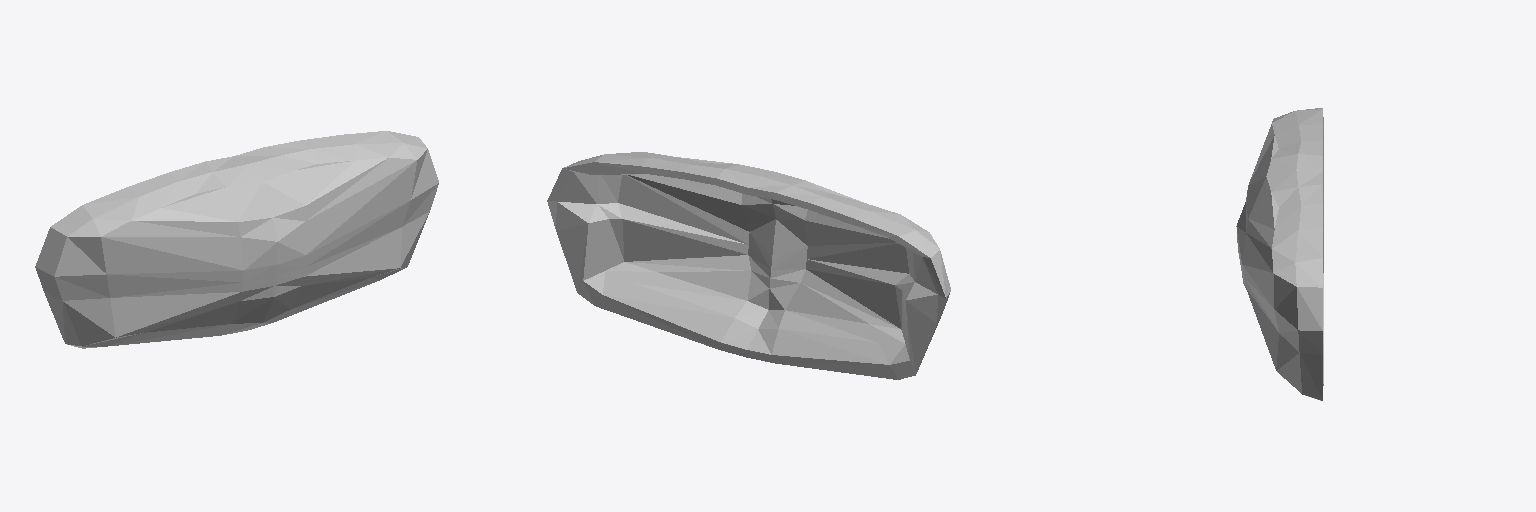
The model's file is mask_bottom_5.obj.
3 views of the same model, side by side, from view 1: azimuth 30°, elevation 25°; view 2: azimuth 150°, elevation 25°; view 3: azimuth 270°, elevation 25° (orthographic).
Bounding box in the file's own units: 4.53 × 1.87 × 0.8573.